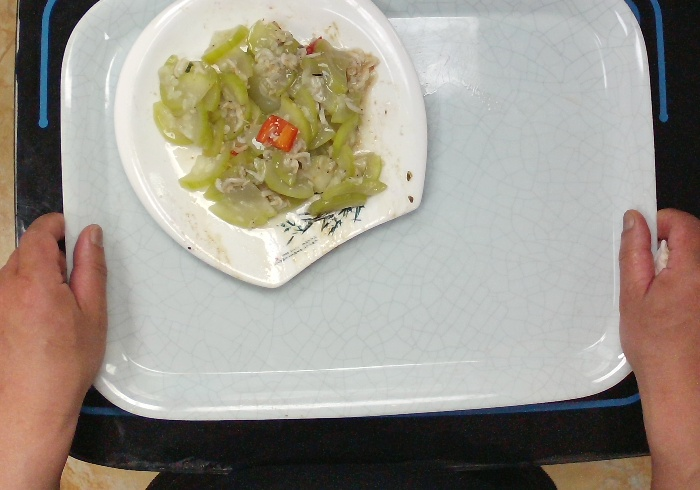JYsf-Mian_Pan: (107, 1, 432, 294)
